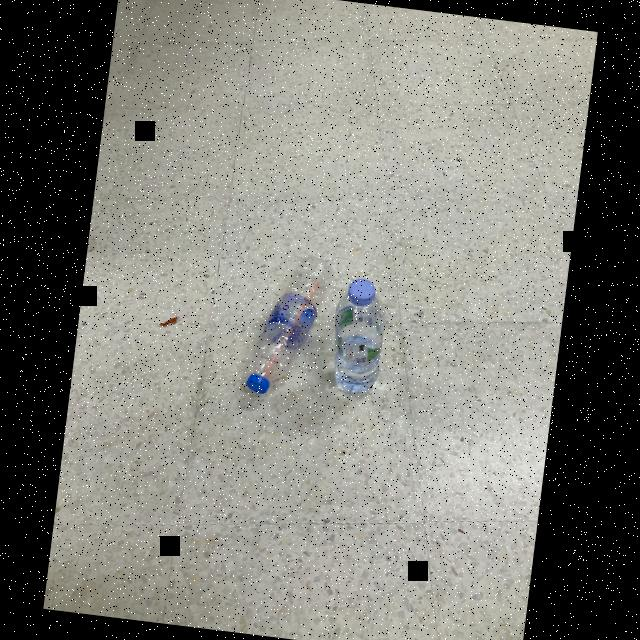plastic_bottle: (243, 248, 334, 401), (324, 274, 394, 401)
plastic_bottle_cap: (347, 276, 378, 304), (246, 372, 270, 394)
